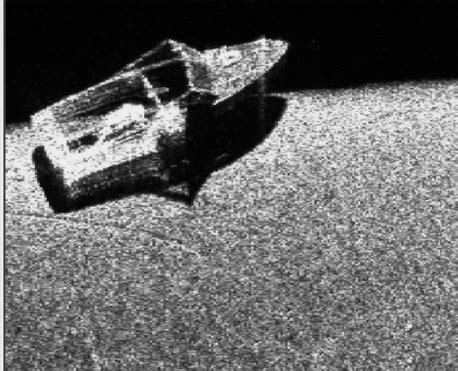ship: (35, 33, 288, 196)
